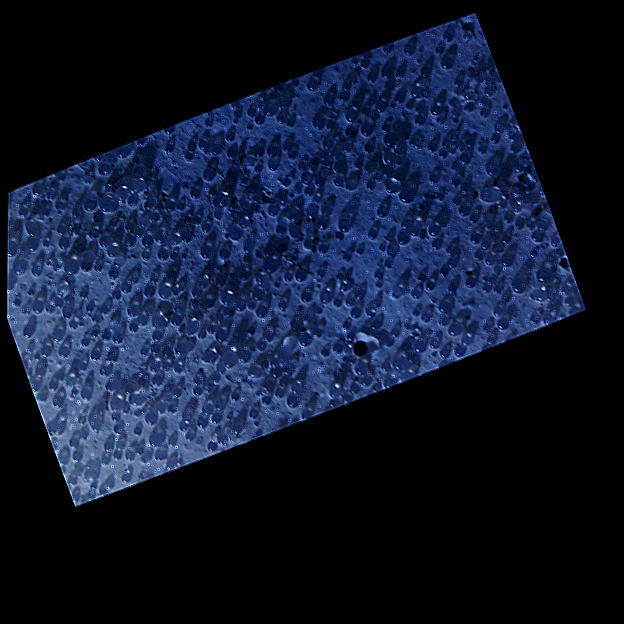GrassBeadSeg: (70, 143, 563, 489), (29, 44, 498, 391), (123, 123, 573, 442), (19, 66, 392, 439), (75, 138, 524, 425), (113, 191, 526, 455), (78, 134, 431, 438), (15, 243, 459, 482), (80, 92, 401, 422), (32, 257, 455, 480), (215, 135, 519, 445), (55, 93, 550, 282), (98, 131, 486, 372), (96, 45, 538, 256), (118, 147, 461, 418), (30, 143, 535, 324), (92, 152, 555, 343), (79, 247, 537, 440), (53, 45, 390, 307), (57, 114, 287, 489), (172, 86, 495, 348), (132, 161, 491, 394), (129, 177, 400, 480), (205, 101, 433, 452), (168, 161, 461, 432), (125, 183, 470, 413), (259, 132, 525, 424), (202, 118, 479, 398), (126, 196, 496, 405), (96, 31, 453, 247), (229, 108, 490, 400), (230, 117, 470, 433), (134, 136, 522, 329), (7, 228, 416, 411), (51, 140, 414, 342), (207, 69, 430, 383), (96, 102, 474, 279), (69, 96, 291, 395), (86, 57, 453, 233), (171, 115, 424, 369), (53, 188, 313, 435), (39, 164, 376, 354), (44, 176, 337, 394), (200, 126, 509, 329), (46, 217, 408, 390), (34, 287, 569, 402), (162, 66, 445, 283), (70, 300, 449, 462), (25, 123, 389, 289), (29, 218, 327, 419), (128, 176, 458, 355), (17, 106, 512, 224), (188, 187, 466, 397), (170, 92, 356, 398), (80, 288, 421, 453), (274, 112, 544, 316), (149, 138, 451, 319), (79, 150, 297, 400), (176, 171, 382, 431), (52, 182, 383, 341), (109, 321, 409, 489), (172, 204, 470, 373), (147, 184, 573, 301), (162, 124, 513, 265), (172, 142, 452, 312), (111, 186, 568, 287), (22, 159, 316, 314), (11, 221, 536, 307), (67, 240, 280, 448), (326, 141, 490, 407), (205, 118, 375, 372), (50, 234, 293, 408), (204, 222, 490, 367), (175, 201, 396, 387), (139, 231, 538, 334), (299, 101, 422, 419), (260, 143, 447, 352), (88, 229, 377, 361), (148, 139, 298, 393), (395, 68, 539, 323), (57, 238, 462, 327), (161, 205, 330, 414), (53, 324, 490, 403), (198, 120, 380, 308), (307, 77, 461, 294), (346, 108, 525, 294), (21, 328, 341, 431), (242, 220, 553, 325), (91, 172, 311, 318), (247, 233, 480, 370), (201, 132, 356, 337), (184, 160, 331, 374), (133, 234, 299, 416), (103, 207, 261, 392), (287, 189, 462, 356), (26, 205, 343, 296), (57, 286, 493, 351), (268, 239, 488, 366), (79, 249, 364, 337), (322, 109, 412, 382), (24, 237, 513, 287), (69, 207, 457, 269), (213, 172, 428, 281), (161, 177, 290, 357), (41, 347, 328, 425), (81, 198, 478, 252), (85, 232, 351, 312), (11, 263, 168, 397), (118, 278, 259, 426), (118, 238, 312, 345), (56, 237, 221, 358), (318, 186, 502, 294), (150, 248, 254, 424), (126, 78, 294, 186), (389, 149, 472, 364), (271, 103, 411, 229), (211, 196, 496, 257), (313, 219, 462, 334), (131, 222, 211, 435), (346, 223, 444, 393), (110, 306, 268, 408), (97, 334, 470, 377), (226, 69, 405, 157), (194, 332, 354, 428), (133, 245, 214, 427), (34, 366, 301, 421), (272, 176, 343, 377), (271, 173, 438, 258), (316, 72, 377, 304), (73, 172, 379, 217), (347, 115, 446, 254), (182, 107, 368, 178), (172, 269, 325, 355), (335, 130, 496, 210), (287, 278, 389, 401), (30, 145, 279, 195), (296, 187, 518, 243), (312, 35, 441, 129), (136, 275, 378, 325), (134, 139, 520, 168), (423, 104, 483, 290), (223, 207, 318, 318), (344, 101, 412, 254), (263, 321, 377, 402), (273, 339, 426, 398), (415, 33, 497, 143), (62, 230, 254, 275), (410, 293, 553, 353), (59, 205, 318, 235), (69, 150, 131, 273), (179, 215, 350, 259), (7, 241, 110, 314), (280, 121, 520, 152), (28, 261, 102, 360), (107, 245, 207, 317), (399, 45, 445, 200), (91, 145, 131, 323), (340, 76, 421, 163), (213, 328, 300, 408), (306, 255, 512, 288), (236, 298, 336, 362), (246, 347, 451, 378), (276, 78, 318, 228), (121, 235, 350, 262), (259, 258, 362, 318), (16, 233, 178, 271), (429, 238, 505, 315), (253, 57, 365, 108), (207, 324, 439, 348), (96, 197, 137, 332), (44, 189, 259, 214), (480, 235, 560, 299), (221, 248, 311, 303), (336, 152, 396, 232), (251, 150, 340, 202), (61, 174, 141, 230), (123, 270, 307, 294), (76, 163, 108, 298), (359, 49, 475, 86), (388, 75, 487, 117), (27, 328, 94, 387), (98, 234, 119, 421), (180, 177, 246, 235), (105, 414, 231, 444), (487, 125, 519, 240), (169, 234, 229, 292), (333, 244, 396, 299), (227, 199, 284, 259), (353, 233, 404, 300), (320, 95, 386, 146), (27, 312, 91, 364), (122, 384, 163, 459), (285, 245, 346, 292), (276, 243, 311, 324), (219, 272, 292, 309), (31, 228, 68, 297), (106, 351, 158, 399), (330, 283, 398, 318), (179, 232, 271, 256), (186, 288, 215, 361), (482, 232, 544, 265), (28, 174, 62, 234), (228, 98, 257, 167), (192, 216, 287, 237), (139, 374, 161, 463), (54, 289, 96, 335), (108, 199, 168, 229), (232, 256, 264, 312), (165, 404, 208, 440), (372, 234, 407, 278), (519, 205, 556, 246), (240, 196, 297, 221), (78, 362, 102, 414), (339, 350, 435, 363), (127, 157, 153, 200), (479, 285, 502, 332), (327, 94, 357, 122), (341, 82, 420, 92), (169, 313, 195, 334), (123, 451, 157, 461), (132, 217, 148, 237), (127, 384, 141, 405), (341, 330, 351, 359), (148, 317, 167, 328), (261, 103, 277, 116), (102, 441, 115, 455), (110, 450, 128, 460), (251, 164, 262, 173), (286, 150, 296, 159), (100, 456, 107, 464), (242, 255, 245, 261)
